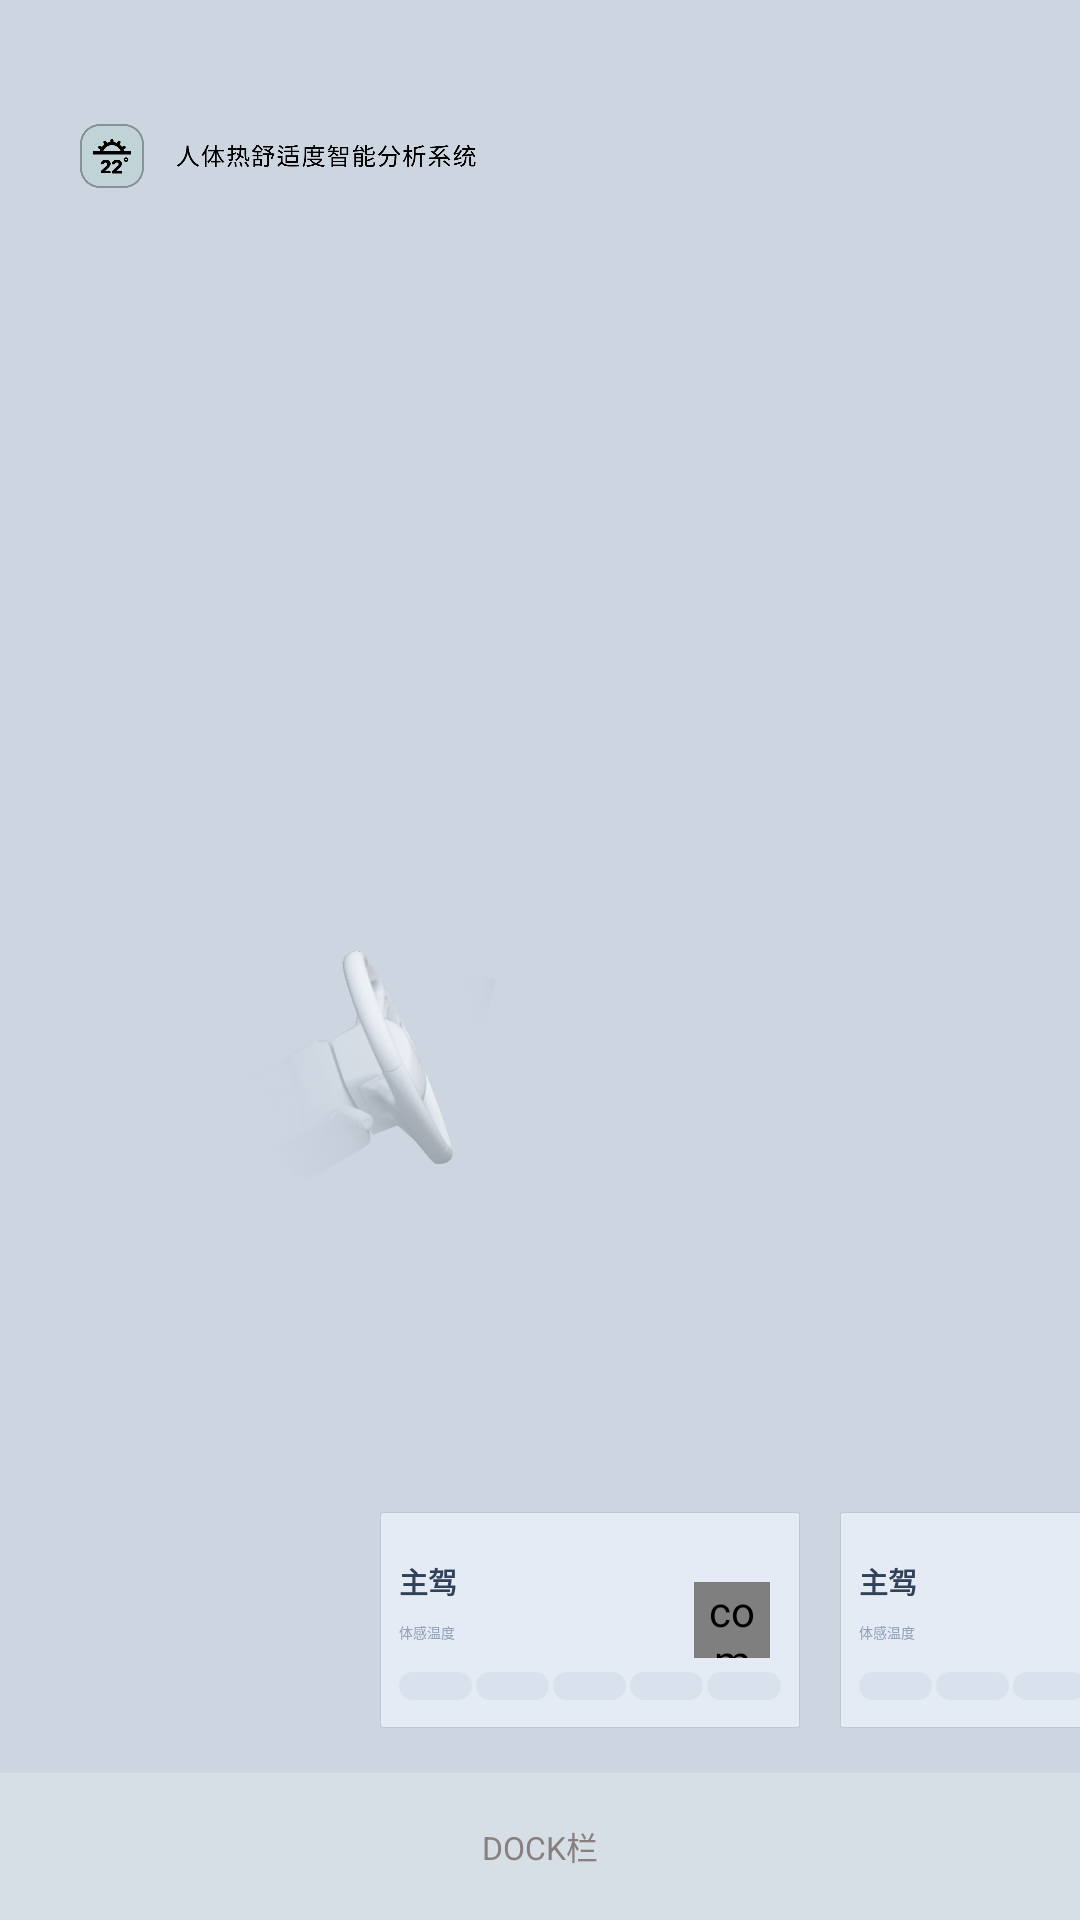

Where icons sit on this 1080w x 1920h app screen, as (x1, y1, x2, y2):
steeringwheel: (330, 951, 452, 1164)
